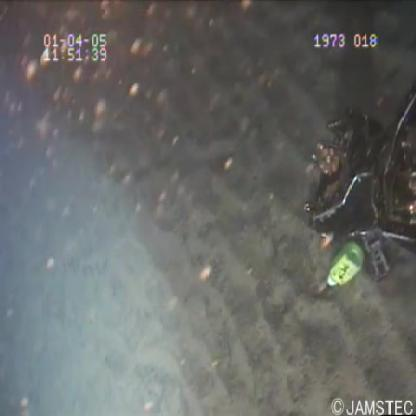Rov: (300, 77, 416, 283)
Rác: (324, 235, 364, 294)
